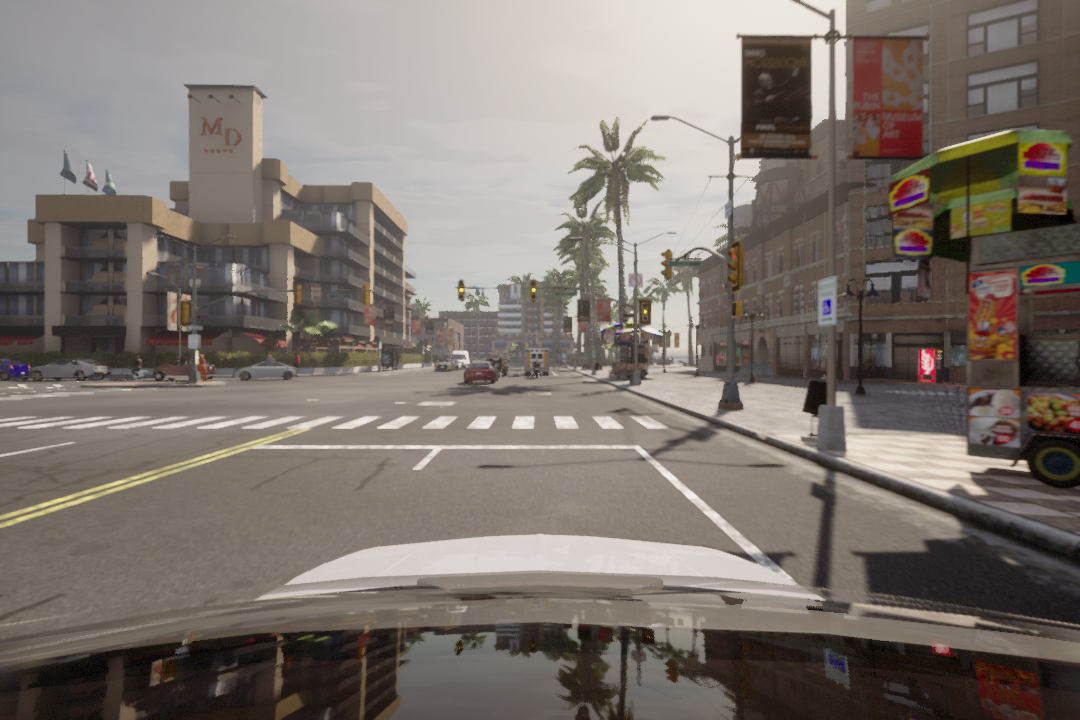TrafficLight: (724, 242, 743, 292), (640, 299, 652, 326), (527, 277, 539, 304), (661, 248, 671, 278), (456, 277, 466, 301)
TrafficSign: (628, 273, 644, 287)
walkside: (3, 413, 681, 436)
